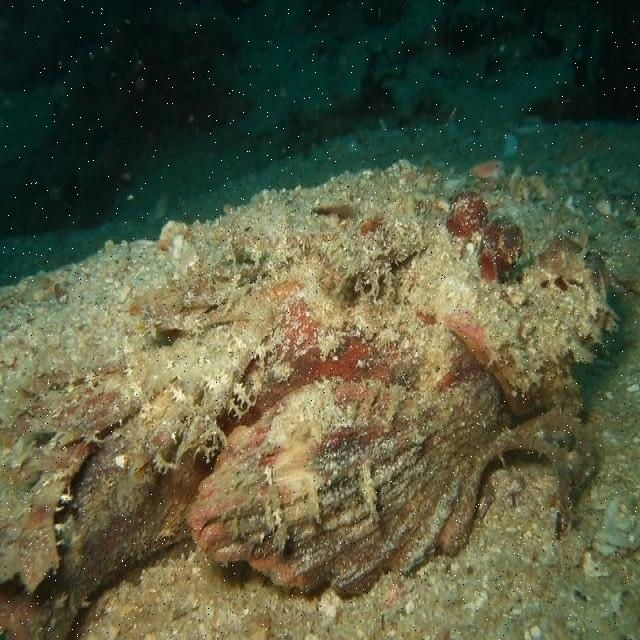reefs: (3, 192, 620, 638)
